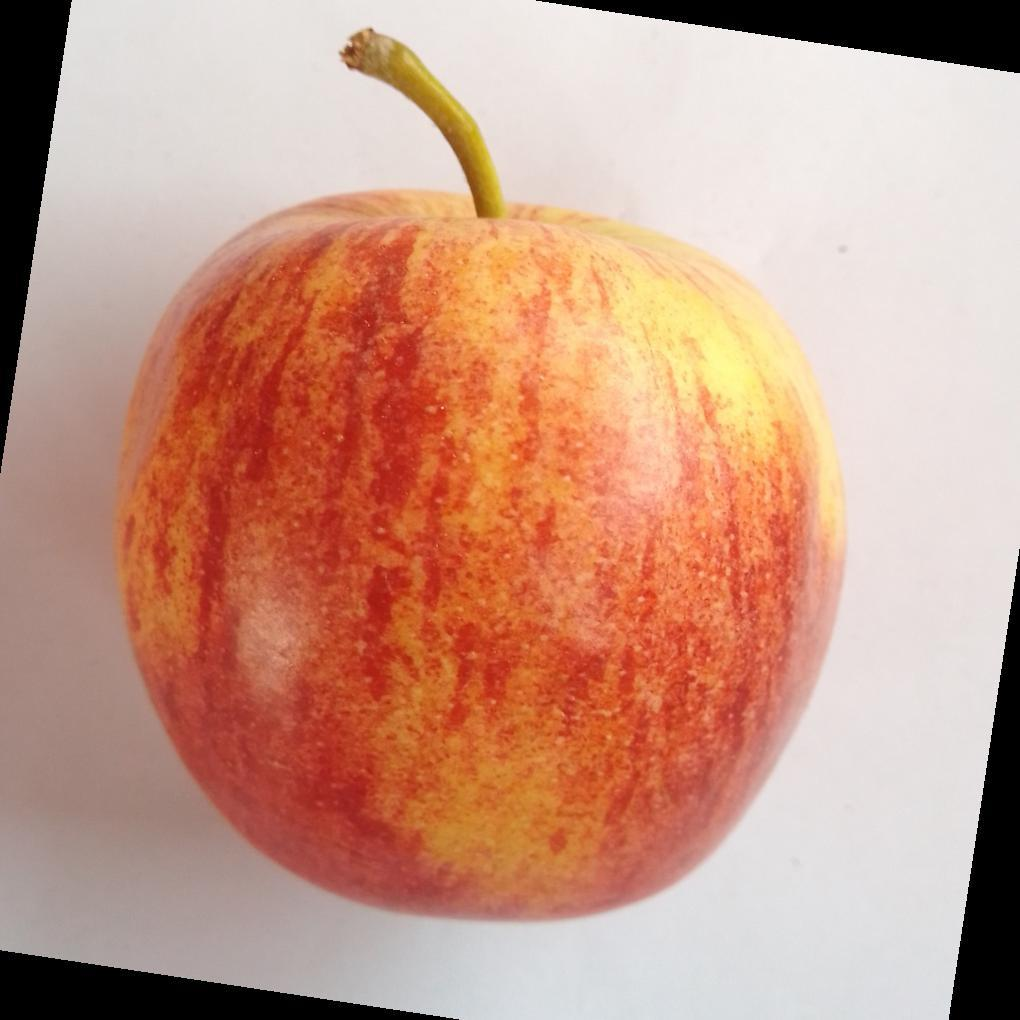FreshGuava: (113, 33, 849, 926)
